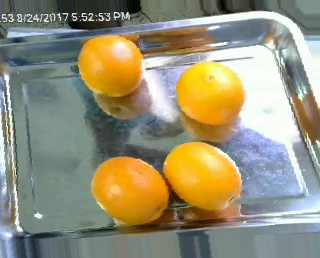Orange: (162, 141, 241, 211), (91, 154, 169, 224), (177, 60, 245, 124), (77, 35, 143, 95)
